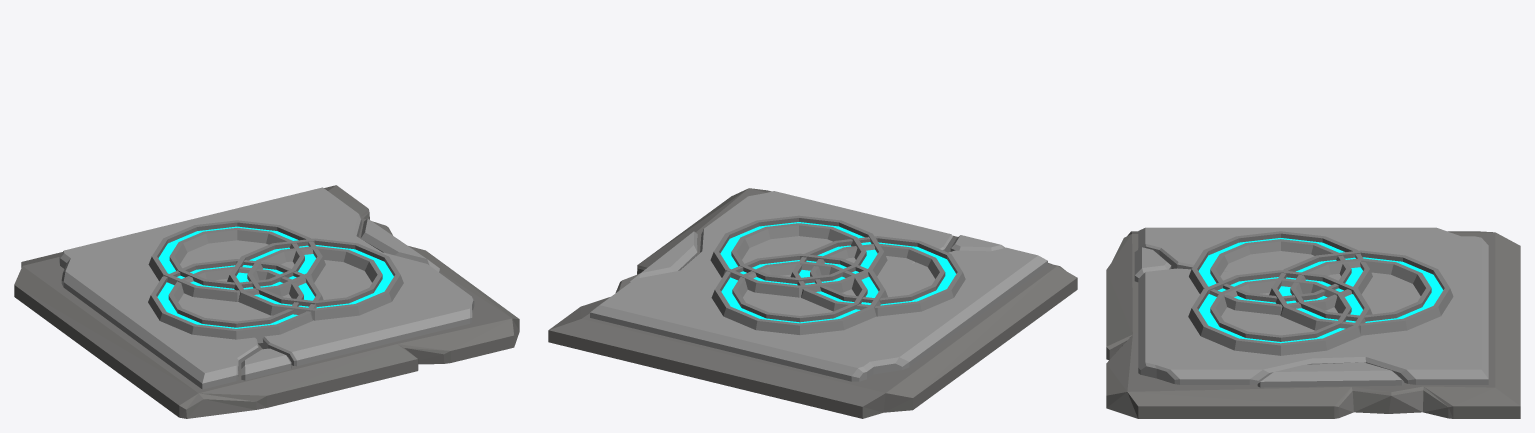
The model's file is plate_5.fbx.
3 renders of one model, left to right at view 1: azimuth 30°, elevation 25°; view 2: azimuth 150°, elevation 25°; view 3: azimuth 270°, elevation 25°, orthographic. The views are drawn at different scales.
Visible parts, largest first — view 1: plate_5, plate_base_5, Цилиндр.005; view 2: plate_5, plate_base_5, Цилиндр.005; view 3: plate_5, plate_base_5, Цилиндр.005.
Boxes of the visible parts, box(x1,y1,x2,y2) form: plate_5: box(59, 187, 474, 389); plate_base_5: box(14, 185, 519, 418); Цилиндр.005: box(148, 220, 403, 343); plate_5: box(590, 191, 1047, 381); plate_base_5: box(548, 188, 1077, 418); Цилиндр.005: box(710, 215, 965, 334); plate_5: box(1134, 227, 1488, 387); plate_base_5: box(1106, 231, 1520, 418); Цилиндр.005: box(1188, 231, 1453, 355).
Size of the model in its own units: 1.3 by 1.07 by 1.3.
